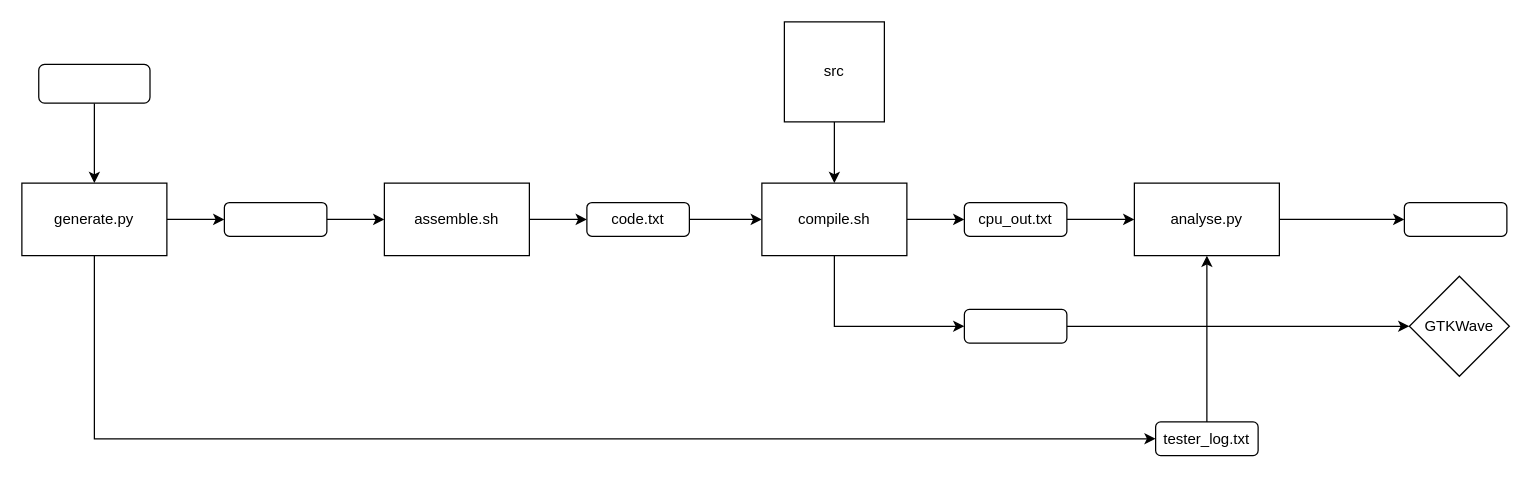
The diagram is 1531 pixels wide and 478 high, and some of its shapes have lost their labels. The shapes that lost their labels are listed below. From the top down, each one's centre as x and y in pixels, then its label:
At (x=94, y=83): "tester_config.txt".
At (x=275, y=218): "assembly.asm".
At (x=1455, y=218): "log.txt".
At (x=1015, y=325): "wave.vcd".
